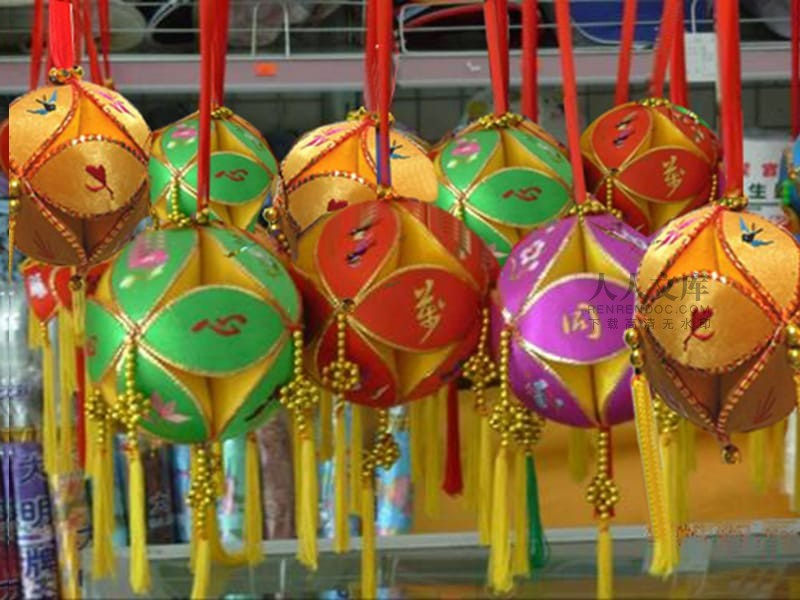xiuqiu: (297, 197, 509, 401), (580, 99, 728, 228)
